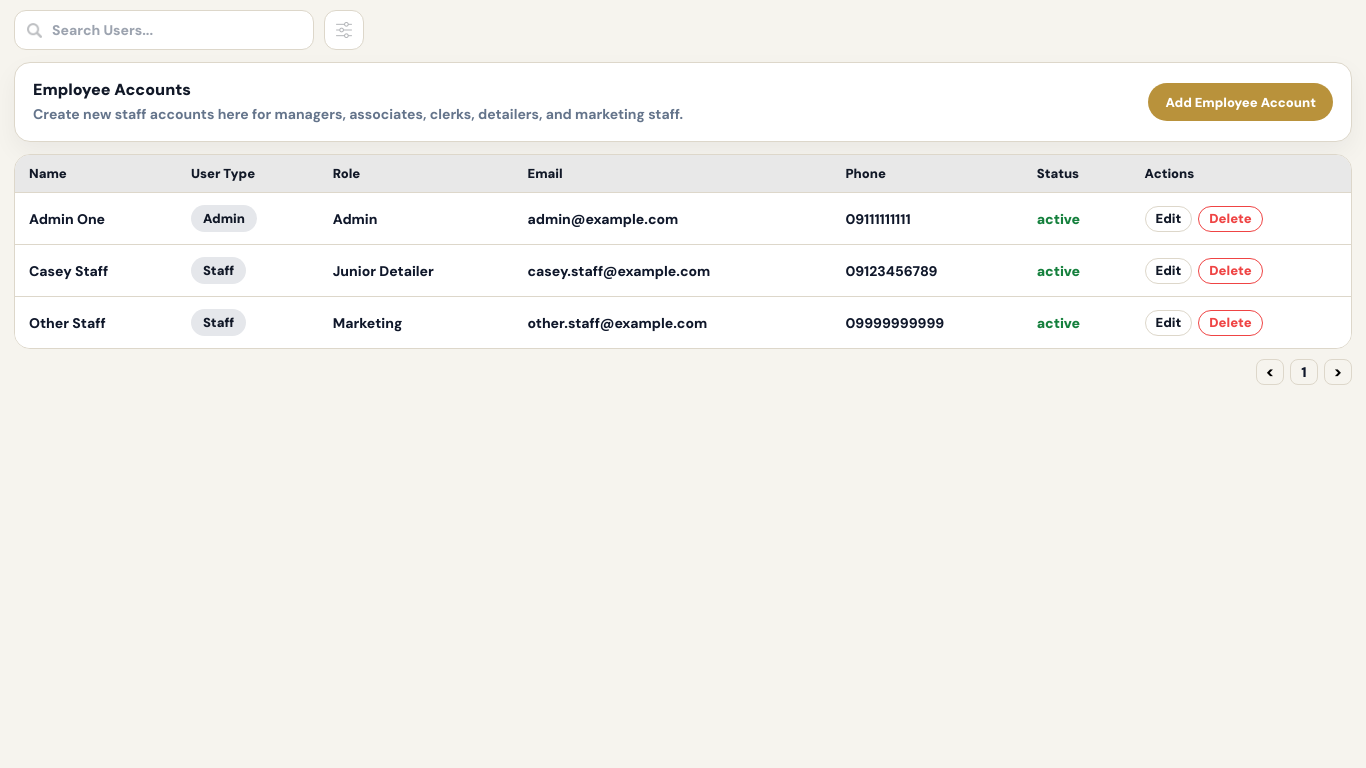
Scenario: Edit User modal validation › valid update submits once, preserves ID, leaves password blank, and updates the existing row once
The image size is (1366, 768).
Click the button "Edit" in the row of "Casey Staff". click: (1168, 270)
box: [1144,258,1192,284]
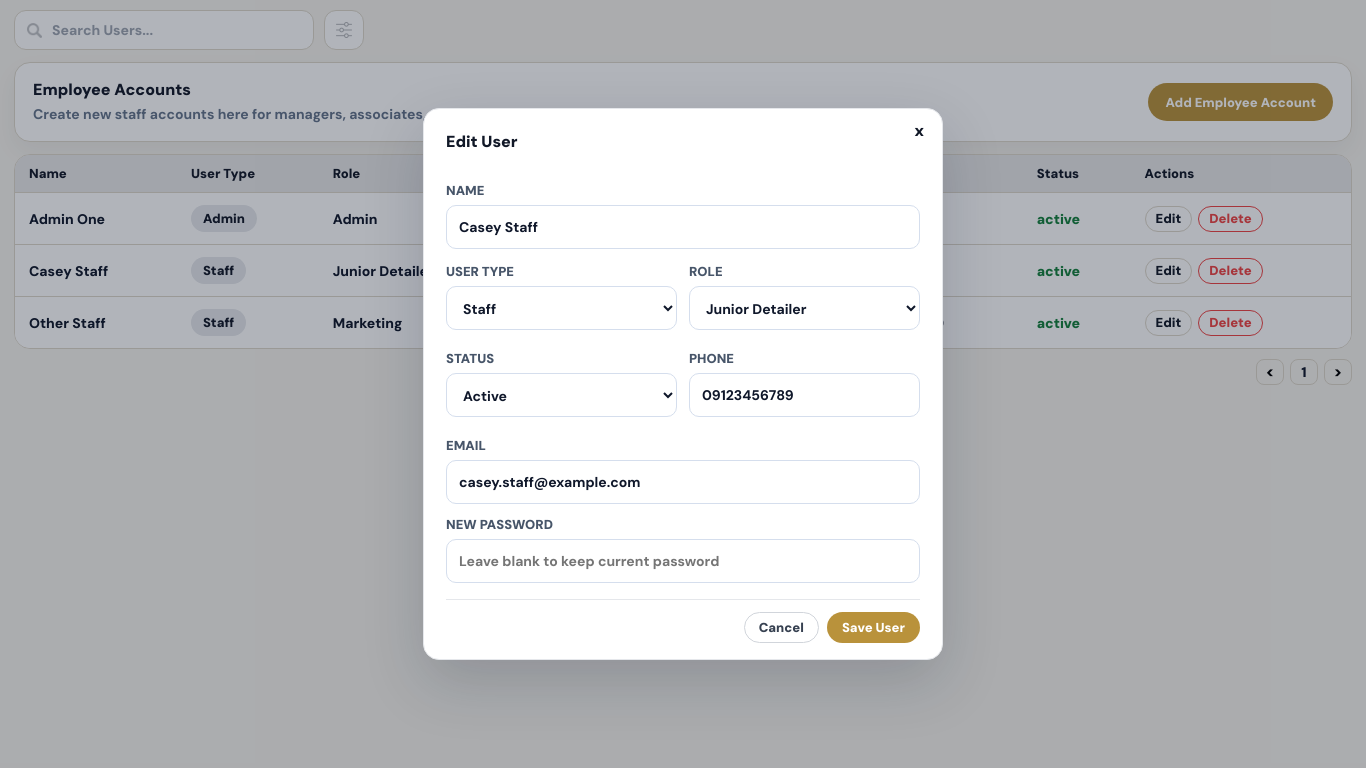
Check: the dialog "Edit User" is shown, box [423,108,943,660]
Check: the field with id "edit-user-name" holds "Casey Staff"
Check: the field with id "edit-user-email" holds "casey.staff@example.com", box [446,460,920,504]
Replace the text in the field with id "edit-user-name" with "Casey Updated". click: (683, 227)
box: [446,205,920,249]
Replace the text in the field with id "edit-user-email" with "Casey.Updated@Example.com". click: (683, 482)
box: [446,460,920,504]
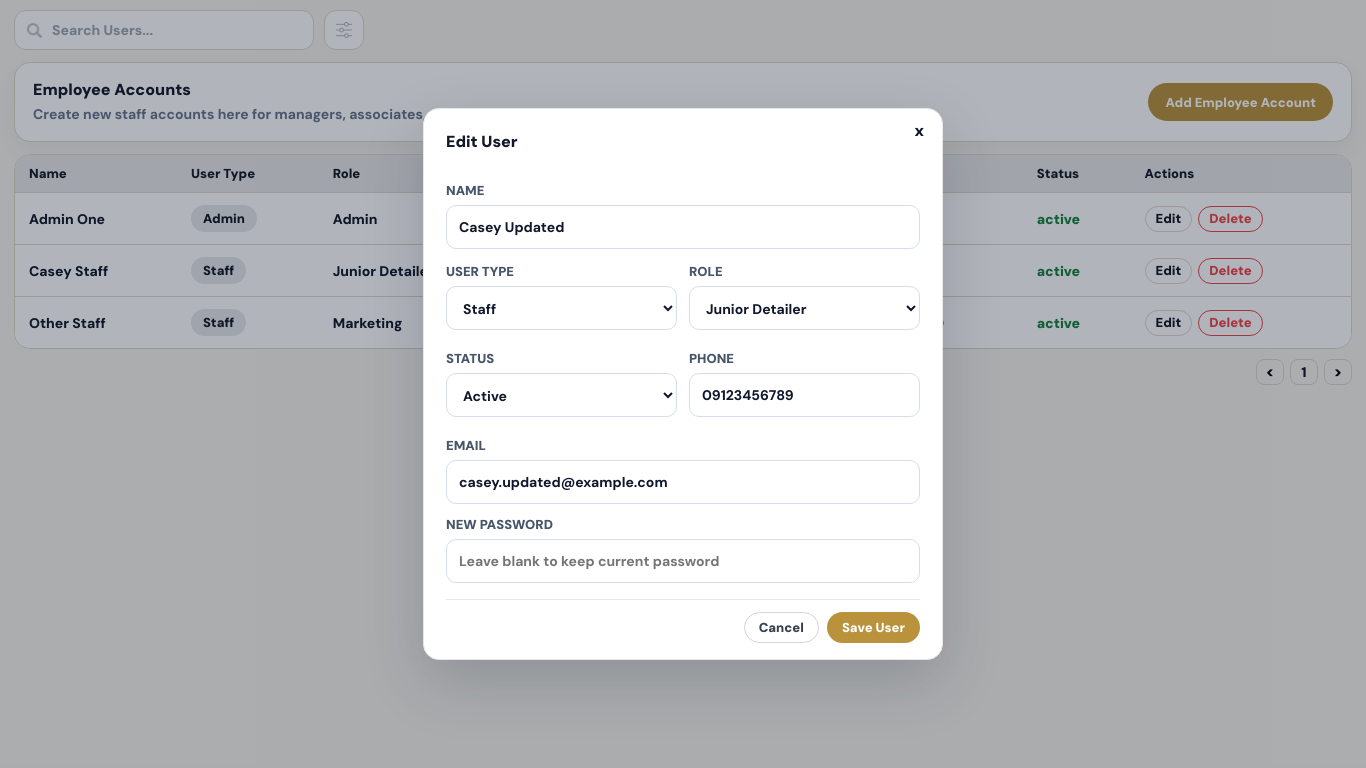
Replace the text in the field with id "edit-user-phone" with "09876543210". click: (804, 395)
box: [689,373,920,417]
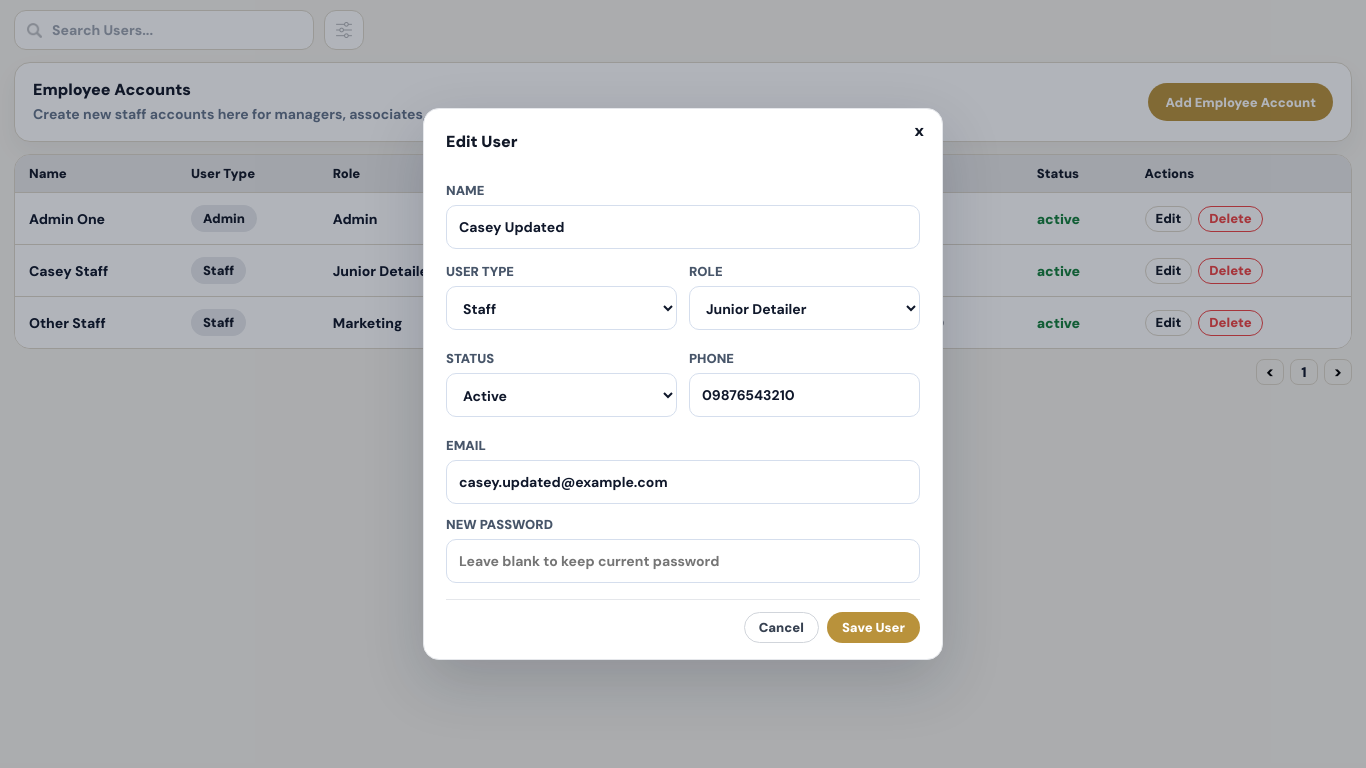
Check: the button "Save User" is enabled
Click the button "Save User". click: (873, 628)
box: [827,612,920,643]
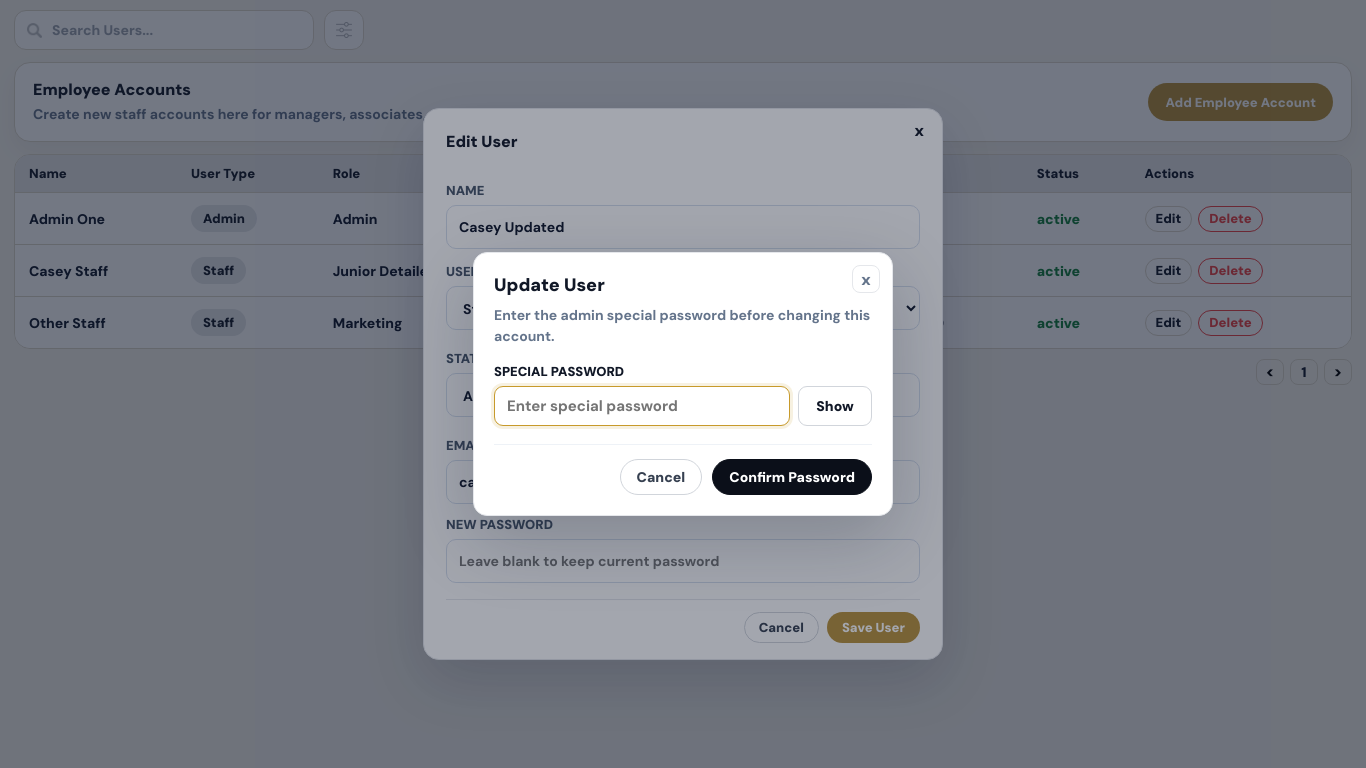
Check: the dialog "Update User" is shown, box [473,252,893,516]
Type "AdminSpecial1!" into the password field labelled "Special Password". click: (642, 406)
box: [494,386,790,426]
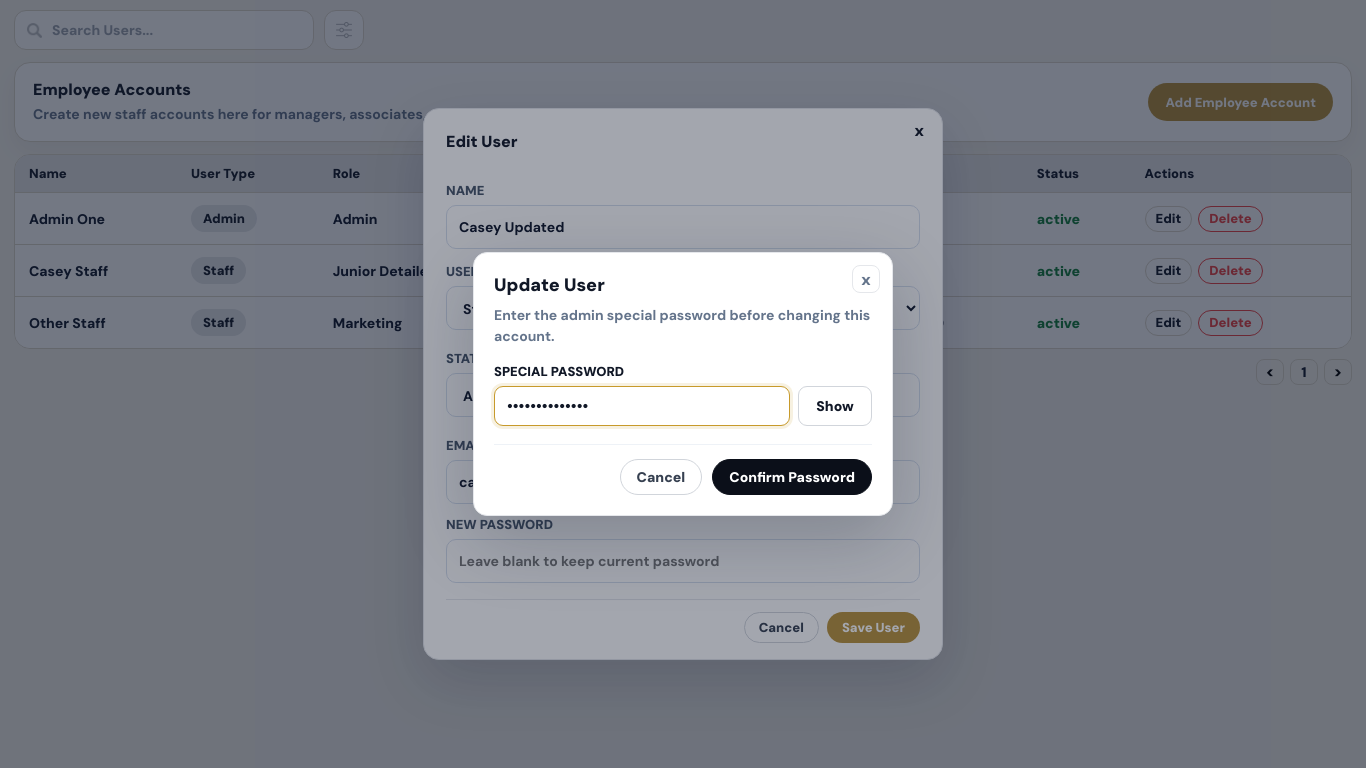
Click the button "Confirm Password". click: (792, 477)
box: [712,459,872,495]
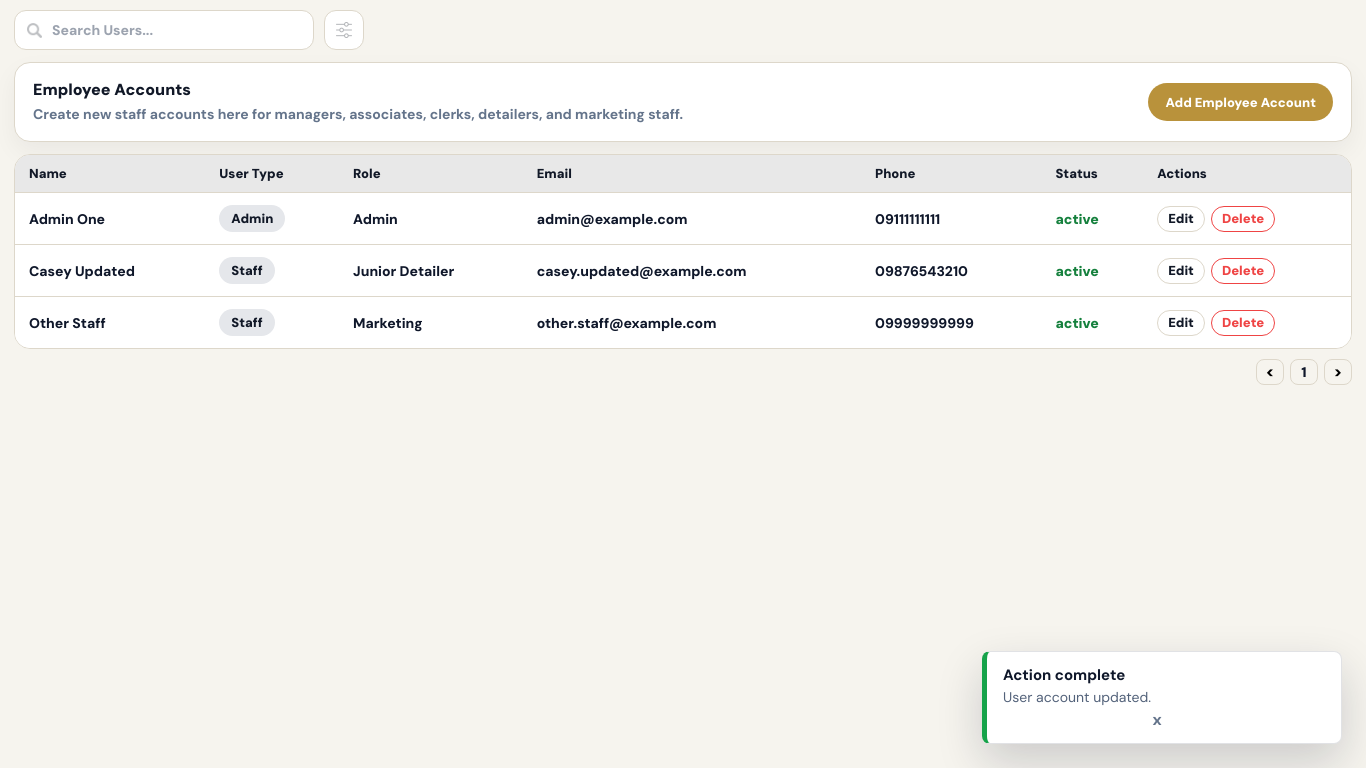
Check: the text "Casey Updated" is shown once, box [15,244,205,296]
Check: the text "Edit User" is gone
Check: the text "casey.updated@example.com" is shown, box [523,244,861,296]
